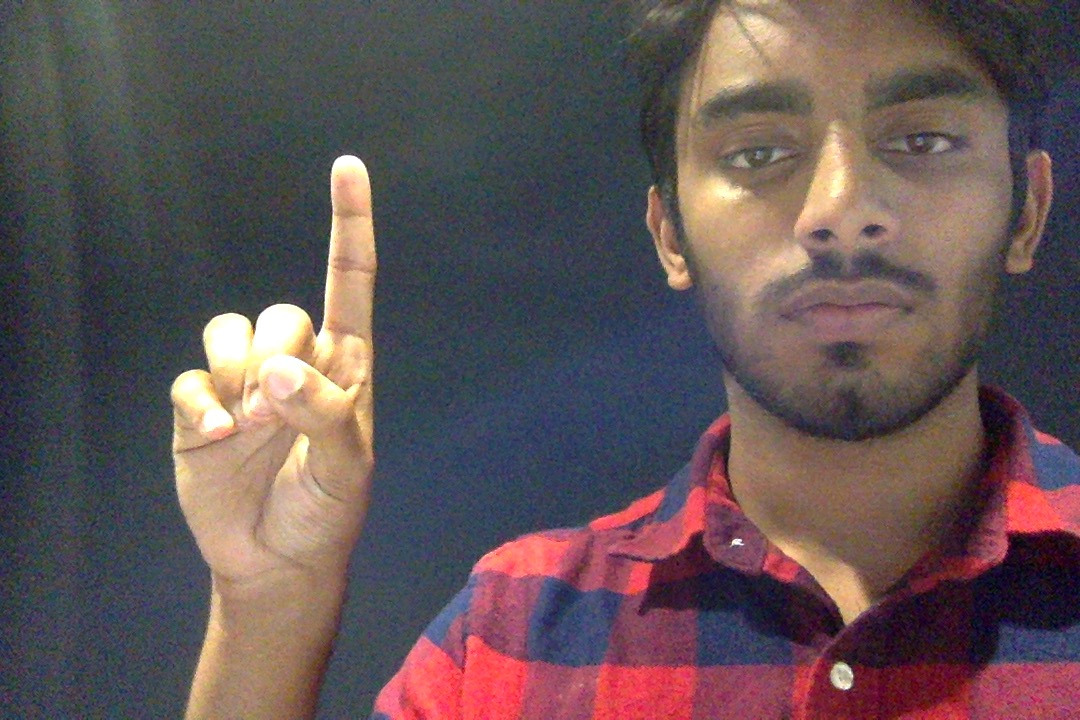d: (151, 146, 416, 623)
